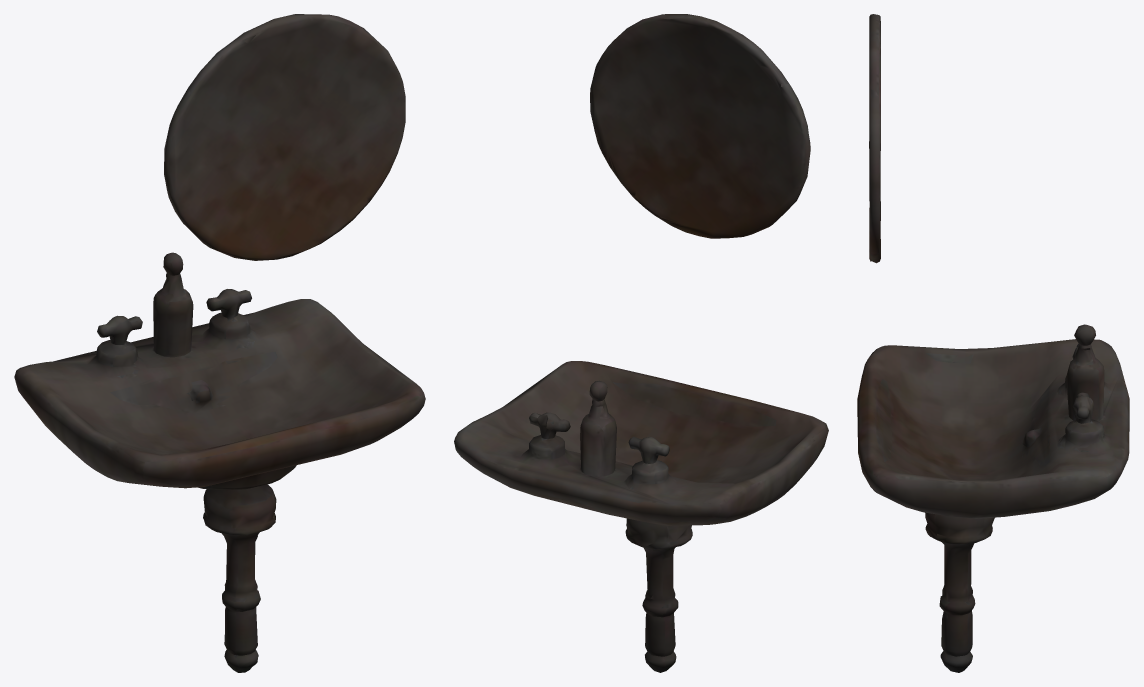
File: old-iron-washbasin-v002.glb
3 views of the same model, side by side, from view 1: azimuth 30°, elevation 25°; view 2: azimuth 150°, elevation 25°; view 3: azimuth 270°, elevation 25° (orthographic). The views are drawn at different scales.
Visible parts, largest first — view 1: old-iron-washbasin; view 2: old-iron-washbasin; view 3: old-iron-washbasin.
Boxes of the visible parts, x1,y1,x2,y2 form: old-iron-washbasin: [14, 14, 425, 672]; old-iron-washbasin: [454, 14, 828, 672]; old-iron-washbasin: [857, 14, 1129, 672].
Bounding box in the file's own units: 0.381 × 0.8262 × 0.3156.
1 material, 1 textured.
